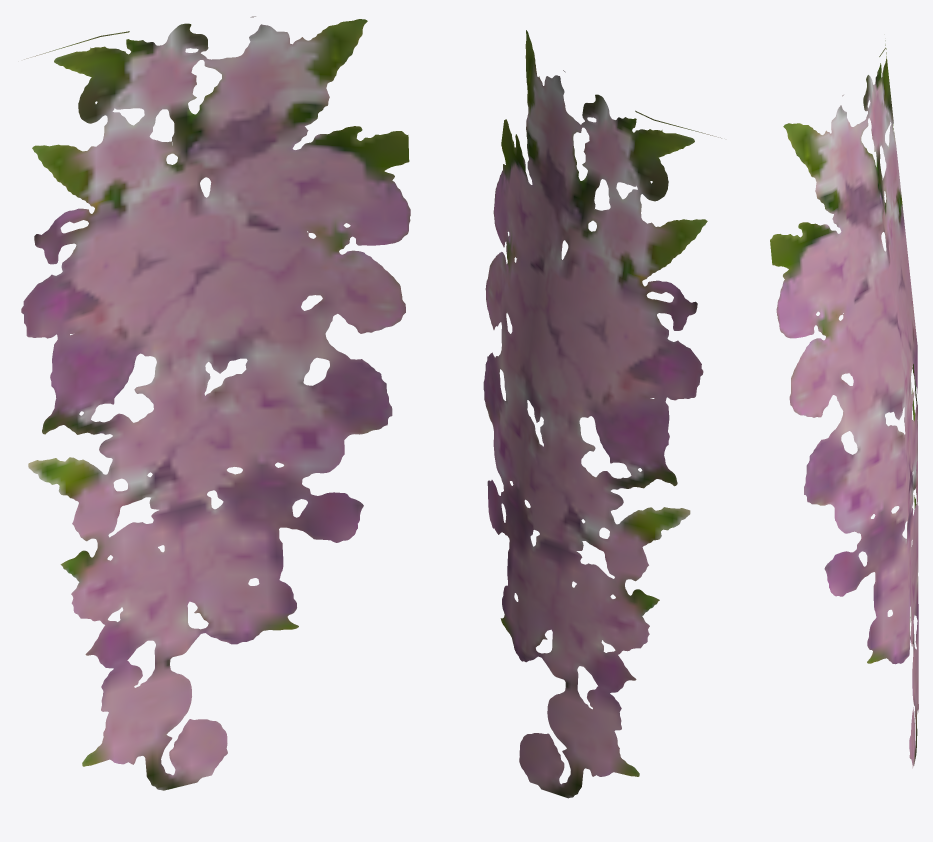
File: liemo_plant_10 (28).fbx
3 views of the same model, side by side, from view 1: azimuth 30°, elevation 25°; view 2: azimuth 150°, elevation 25°; view 3: azimuth 270°, elevation 25° (orthographic). The views are drawn at different scales.
Visible parts, largest first — view 1: liemo_plant_10 (28); view 2: liemo_plant_10 (28); view 3: liemo_plant_10 (28).
Part boxes in pixels (x1=…): liemo_plant_10 (28): x1=21, y1=16, x2=410, y2=790; liemo_plant_10 (28): x1=483, y1=30, x2=721, y2=798; liemo_plant_10 (28): x1=770, y1=40, x2=918, y2=768.
Size of the model in its own units: 0.6235 by 1.31 by 0.2751.
